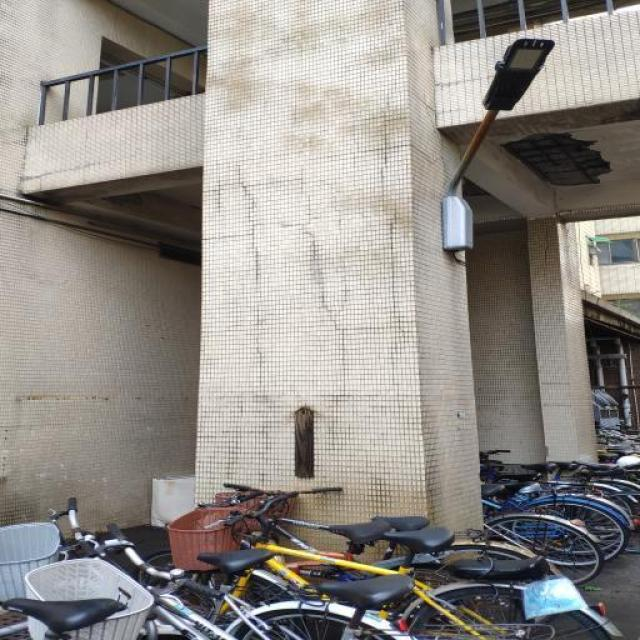D0w0: (501, 132, 610, 186)
